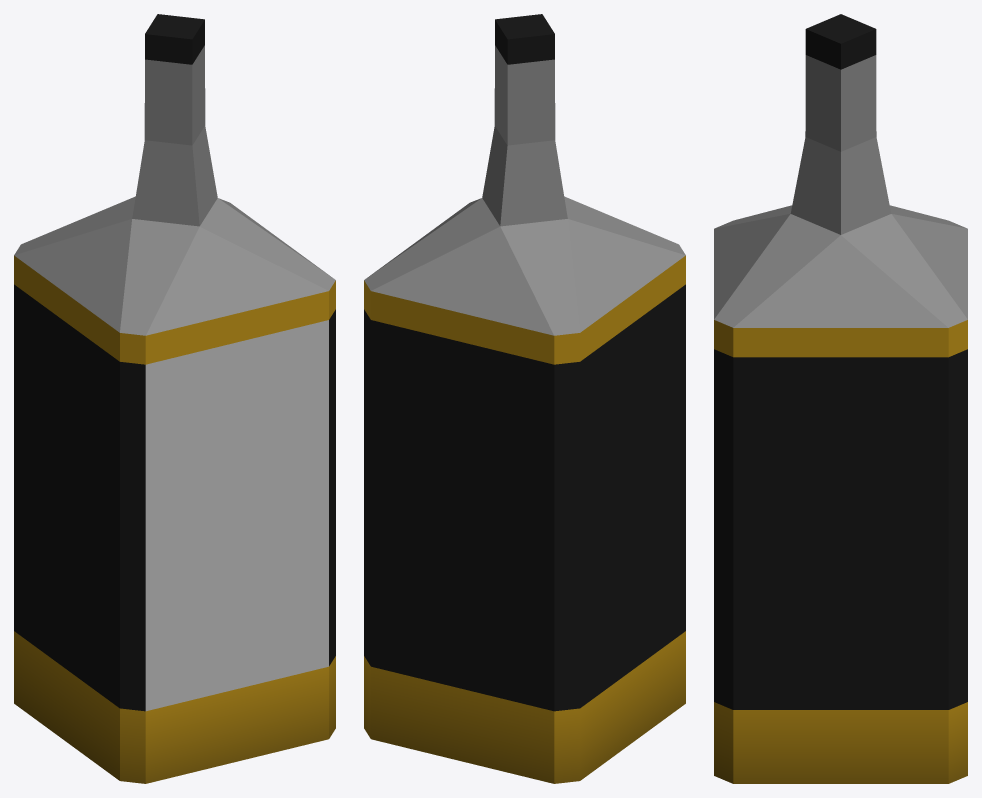
File: Bottle 02.fbx
3 views of the same model, side by side, from view 1: azimuth 30°, elevation 25°; view 2: azimuth 150°, elevation 25°; view 3: azimuth 270°, elevation 25° (orthographic).
Visible parts, largest first — view 1: Bottle 02; view 2: Bottle 02; view 3: Bottle 02.
Part boxes in pixels (x1,y1,x2,y2): Bottle 02: [14, 14, 335, 783]; Bottle 02: [364, 14, 685, 783]; Bottle 02: [714, 14, 967, 783].
Bounding box in the file's own units: 10 × 30.47 × 10.
